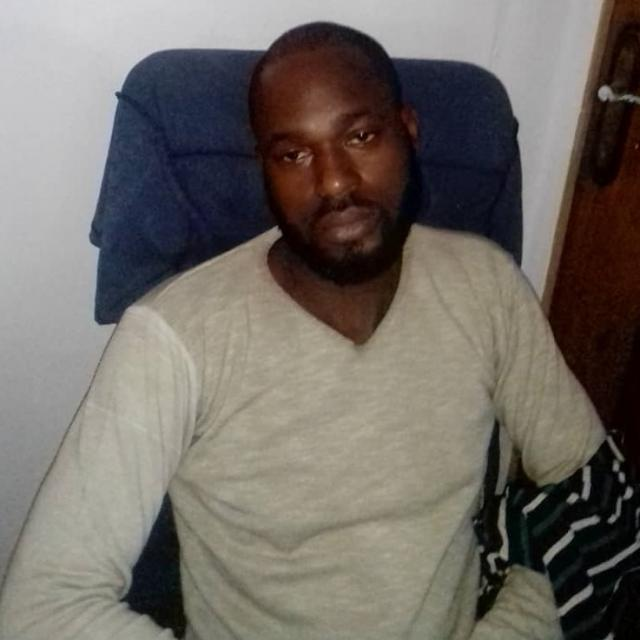sad: (243, 14, 433, 289)
